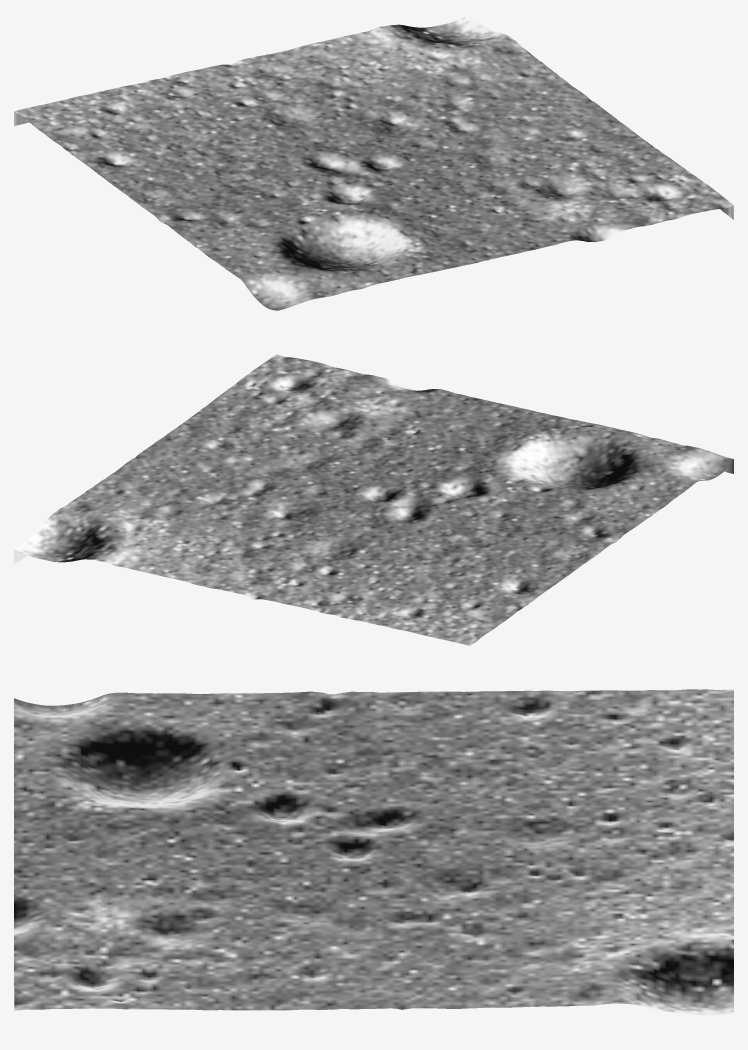
3 views of the same model, one above another, from view 1: azimuth 30°, elevation 25°; view 2: azimuth 150°, elevation 25°; view 3: azimuth 270°, elevation 25° (orthographic). The views are drawn at different scales.
Bounding box in the file's own units: 2553 × 178 × 2557.
Materials: 1 (1 with a texture image).
